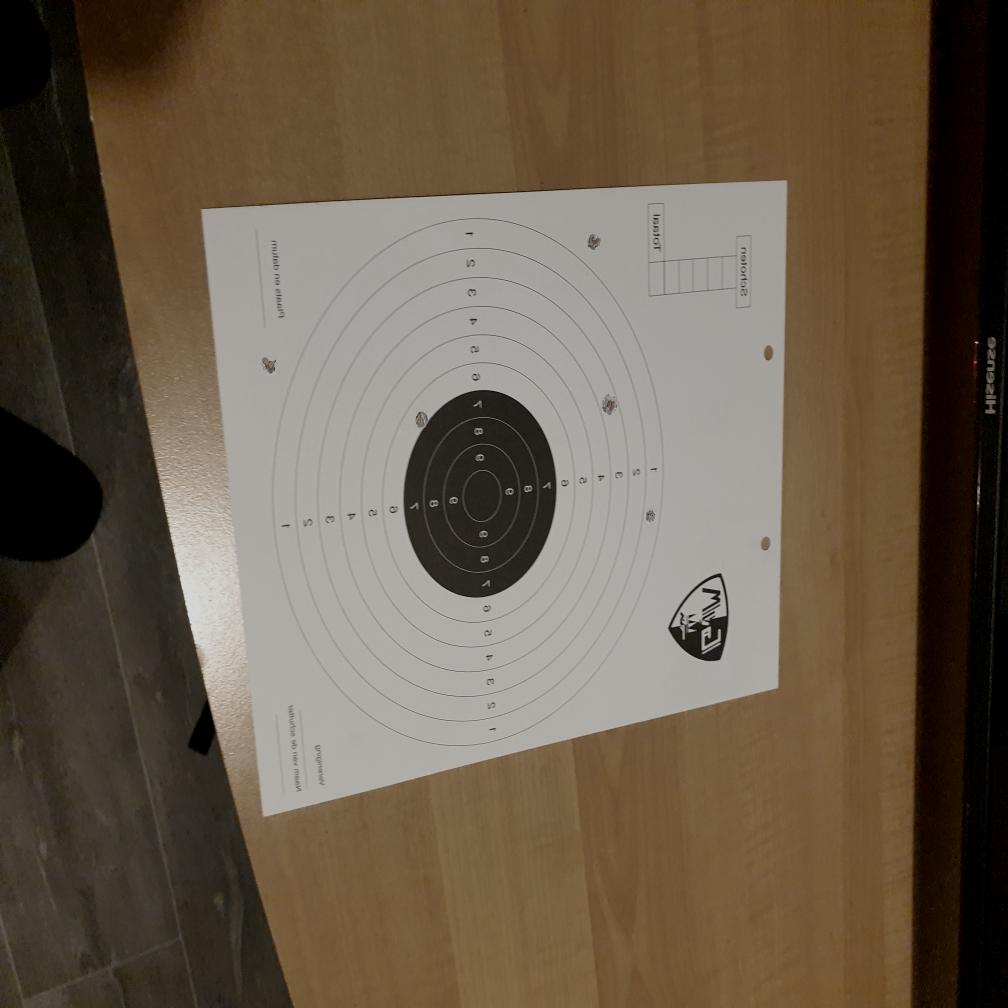0: (261, 354, 279, 376), (588, 232, 602, 251)
1: (644, 507, 657, 526)
3: (602, 394, 618, 415)
7: (414, 409, 428, 429)
Target: (272, 218, 665, 746)
black_contour: (404, 389, 557, 598)
